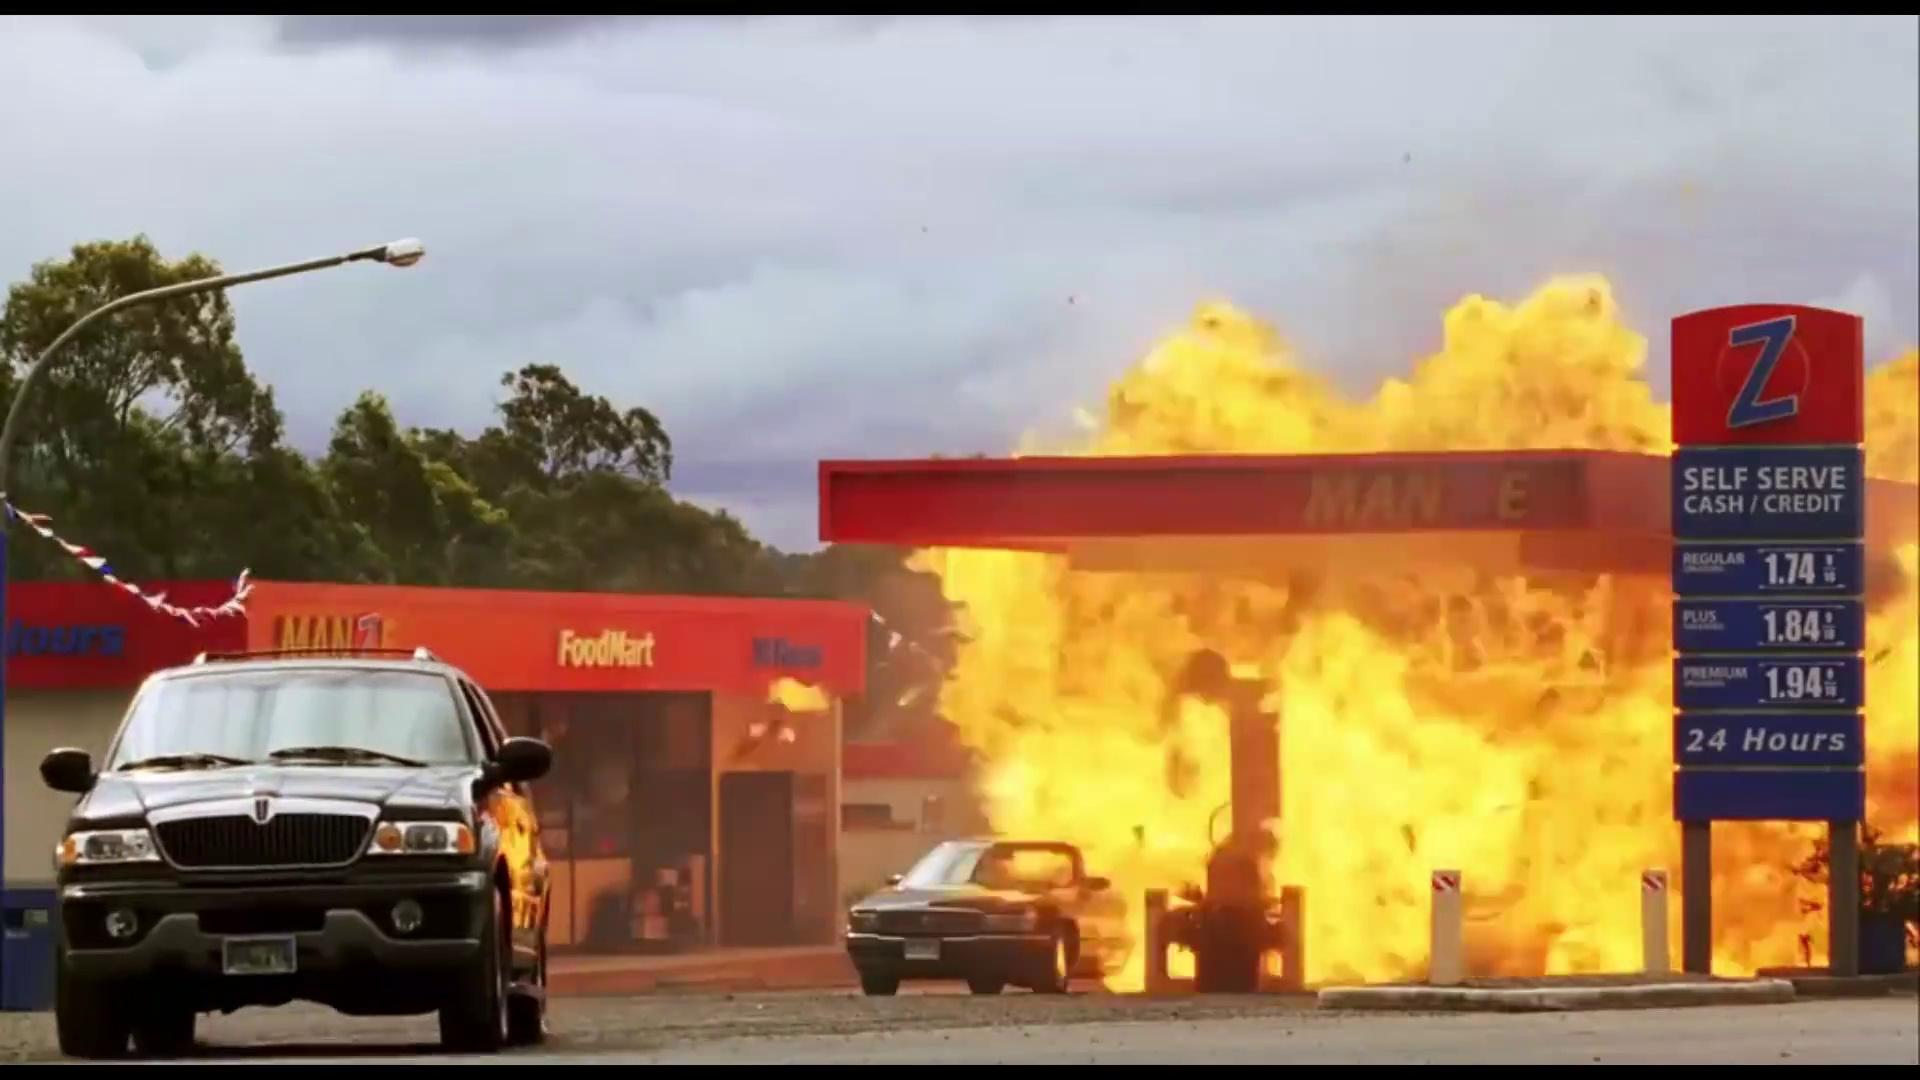fire: (922, 248, 1916, 986)
